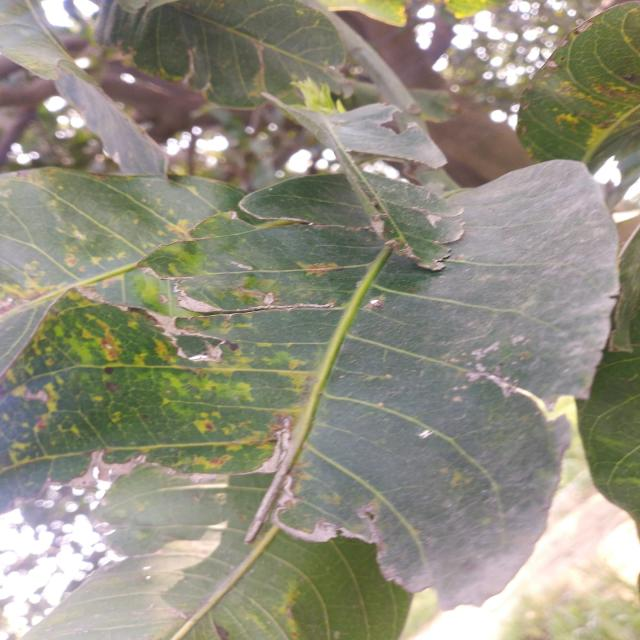Anthracnose: (57, 319, 158, 374)
Powdery Mildew: (258, 426, 290, 477), (150, 314, 185, 335), (176, 300, 214, 312)
